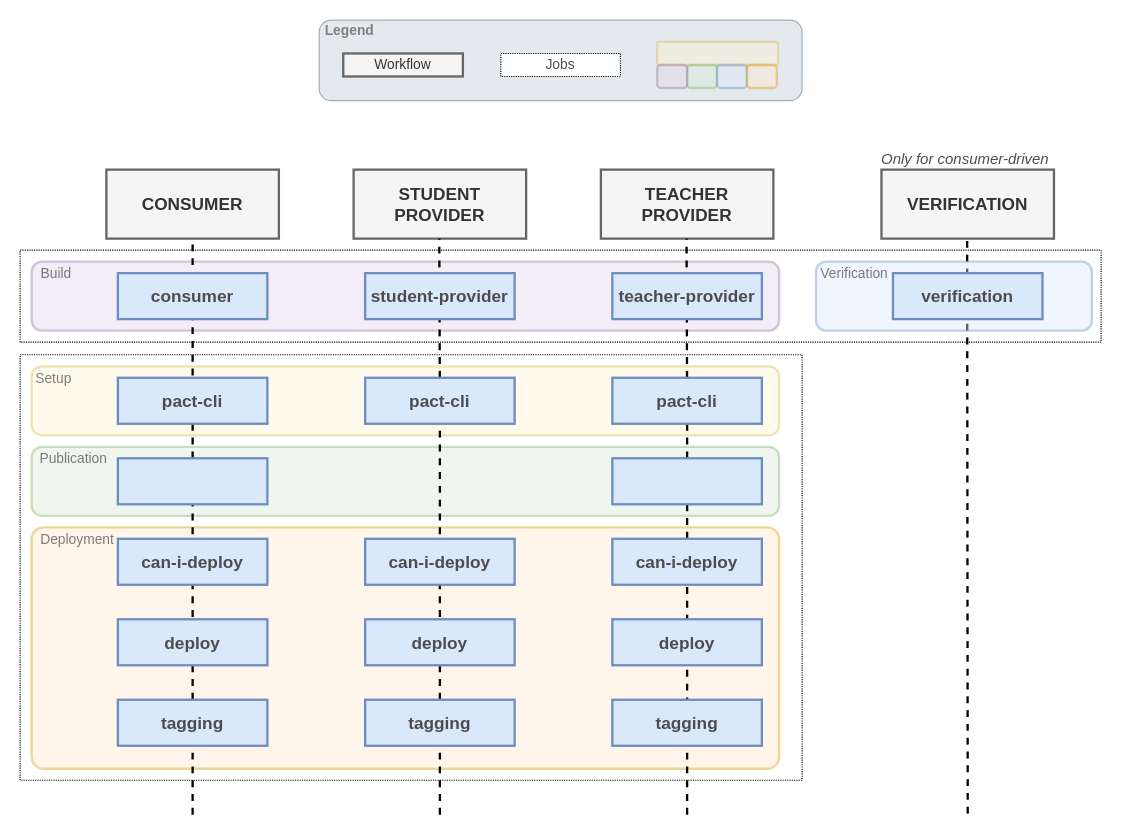
Image size: 1121x837. Some labels were removed from this diagram. The centre of each missing label's shape, as x and y in pixels:
"publish-contract" belongs at (x=192, y=481).
"publish-openapi" belongs at (x=686, y=481).
"Steps" belongs at (x=717, y=53).
